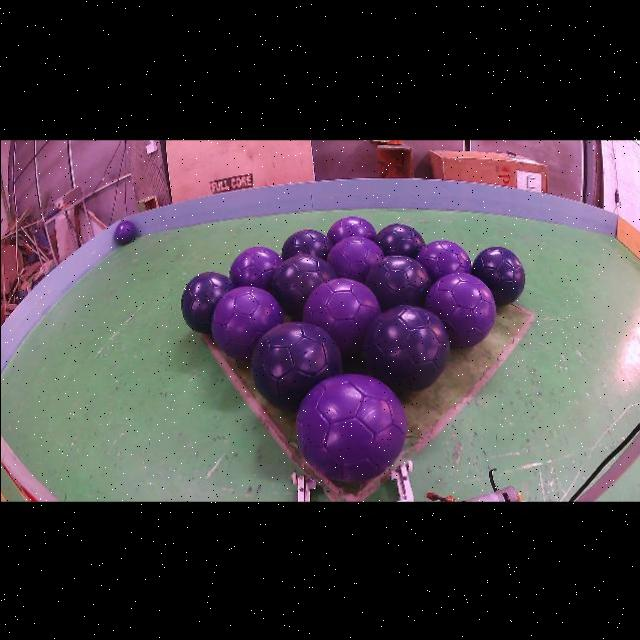B: (251, 322, 340, 407), (363, 304, 449, 391), (270, 253, 335, 315), (364, 255, 431, 310), (181, 271, 232, 333), (471, 246, 524, 304), (374, 222, 425, 258), (280, 229, 332, 260)
P: (295, 373, 406, 482), (301, 278, 379, 356), (211, 285, 283, 361), (423, 271, 495, 347), (327, 236, 383, 283), (228, 245, 281, 290), (415, 240, 471, 282), (325, 216, 376, 244), (113, 220, 137, 245)
